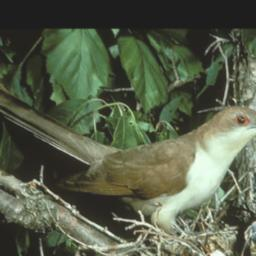Cuckoo: (0, 73, 256, 232)
